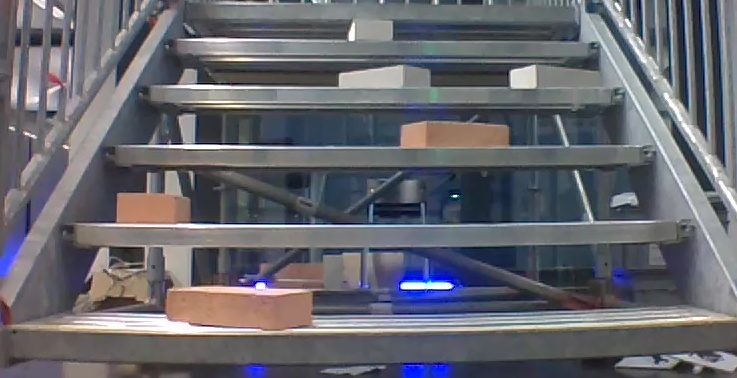brick: (167, 287, 310, 330), (401, 121, 508, 148), (116, 193, 189, 222), (339, 65, 429, 88), (510, 64, 599, 87), (348, 19, 392, 40)
edge: (9, 321, 737, 363), (63, 220, 696, 246), (106, 144, 656, 166), (141, 84, 625, 103), (163, 39, 599, 56), (182, 4, 580, 21)
